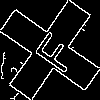F: (25, 25, 80, 76)
